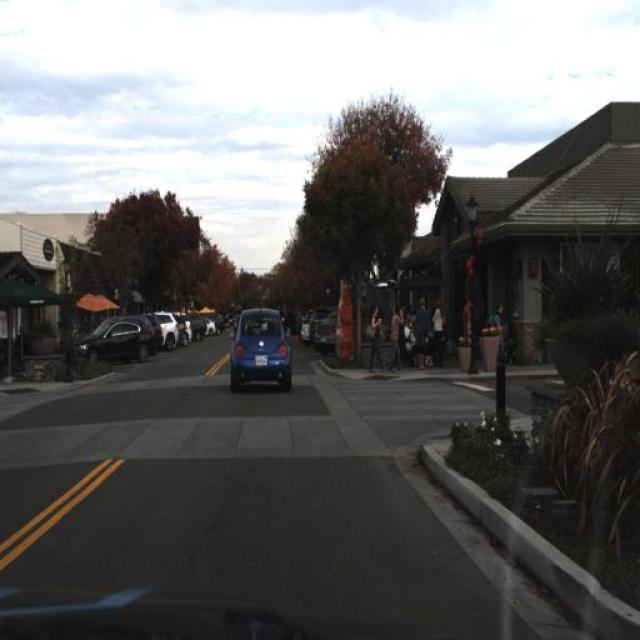car: (228, 300, 294, 390), (76, 318, 152, 367), (314, 308, 338, 356), (158, 307, 181, 352), (299, 308, 313, 352), (280, 303, 299, 335), (191, 306, 205, 342)
trafficLight: (432, 300, 444, 371), (491, 297, 507, 348), (390, 305, 400, 374), (416, 296, 425, 370), (372, 304, 381, 376), (462, 298, 471, 367)
